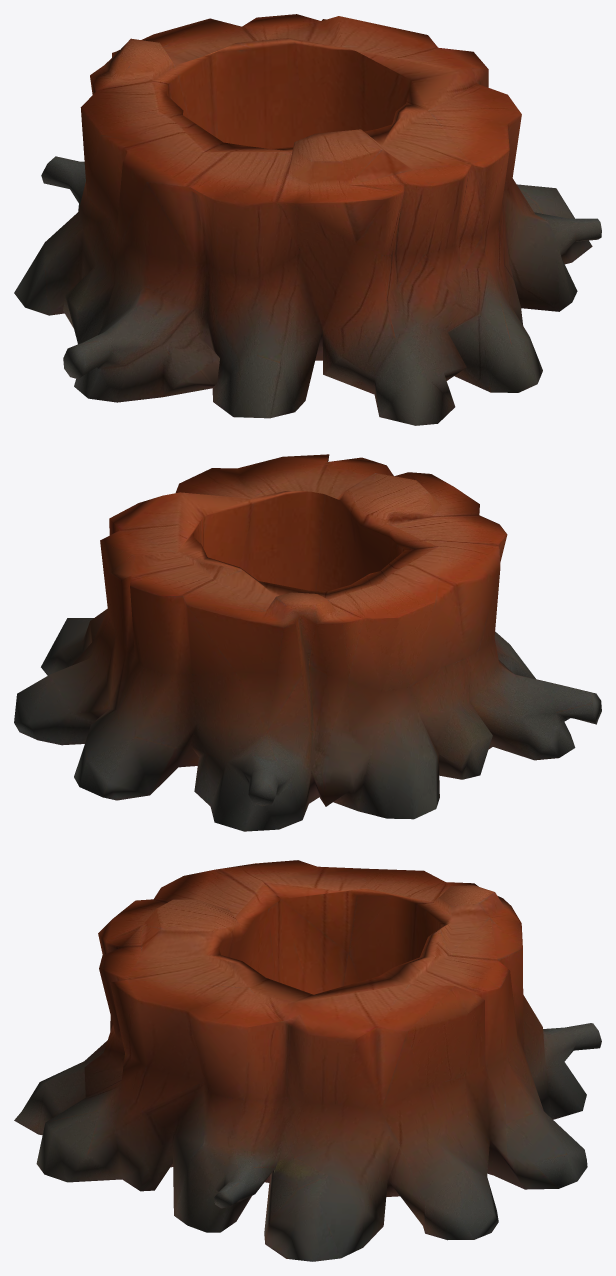
The model's file is forest-stump.glb.
3 views of the same model, one above another, from view 1: azimuth 30°, elevation 25°; view 2: azimuth 150°, elevation 25°; view 3: azimuth 270°, elevation 25° (orthographic). The views are drawn at different scales.
Bounding box in the file's own units: 0.9629 × 0.351 × 0.9155.
Materials: 1 (1 with a texture image).
